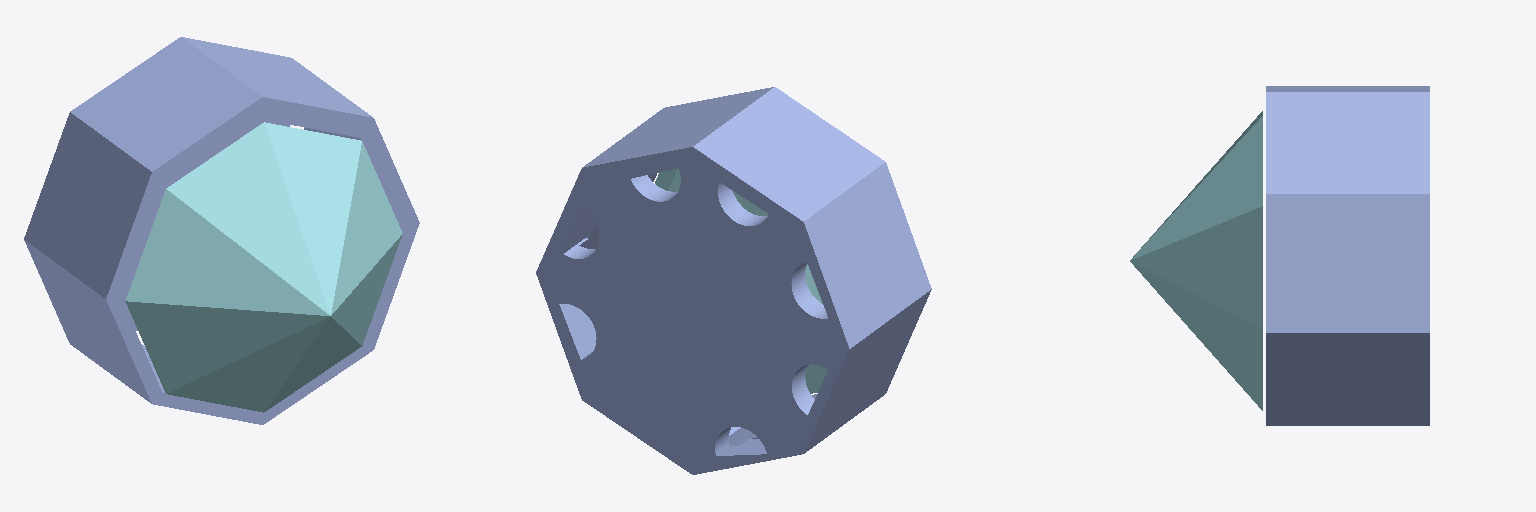
Rendered from tinker.obj.
3 views of the same model, side by side, from view 1: azimuth 30°, elevation 25°; view 2: azimuth 150°, elevation 25°; view 3: azimuth 270°, elevation 25° (orthographic).
Visible parts, largest first — view 1: obj_0; view 2: obj_0; view 3: obj_0.
Part boxes in pixels (x1,y1,x2,y2): obj_0: (24,37,419,424); obj_0: (536,87,931,474); obj_0: (1130,86,1429,425).
Size of the model in its own units: 119 by 119 by 98.82.